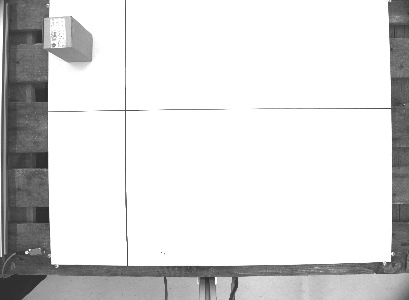b2: (40, 14, 95, 65)
